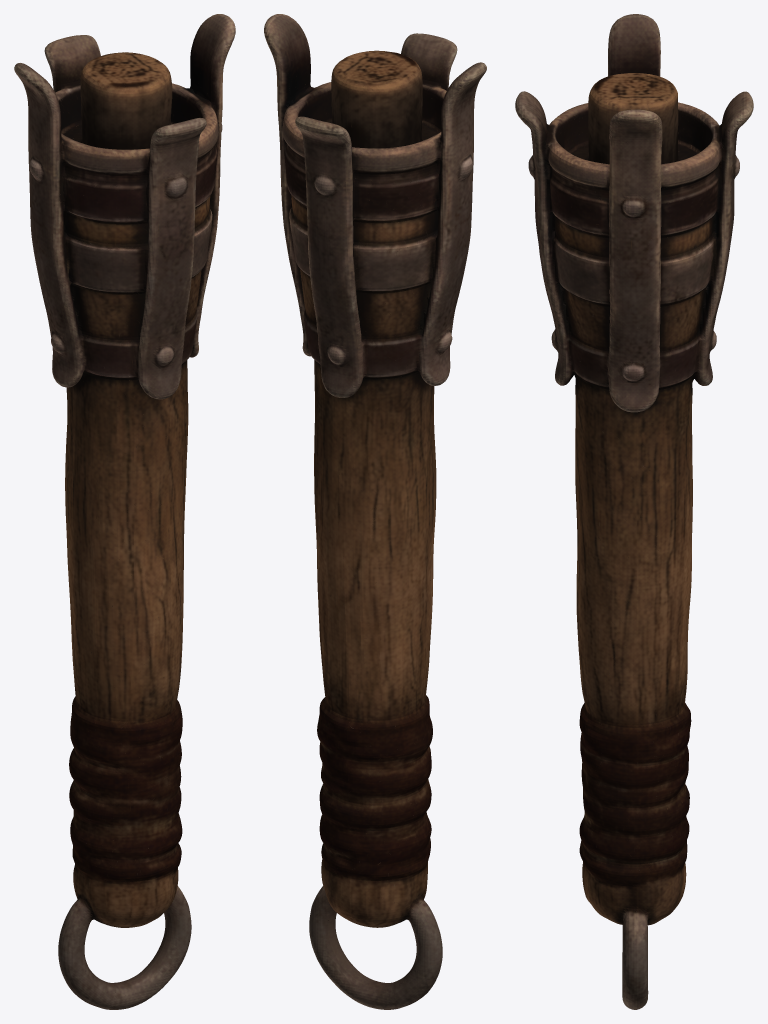
File: swamp_torch.obj
3 renders of one model, left to right at view 1: azimuth 30°, elevation 25°; view 2: azimuth 150°, elevation 25°; view 3: azimuth 270°, elevation 25°, orthographic. The views are drawn at different scales.
Visible parts, largest first — view 1: geometry_0; view 2: geometry_0; view 3: geometry_0.
Boxes of the visible parts, box(x1,y1,x2,y2) form: geometry_0: box(14, 14, 235, 1009); geometry_0: box(264, 14, 486, 1009); geometry_0: box(515, 14, 753, 1009).
Bounding box in the file's own units: 0.2296 × 1 × 0.2291.
1 material, 1 textured.
